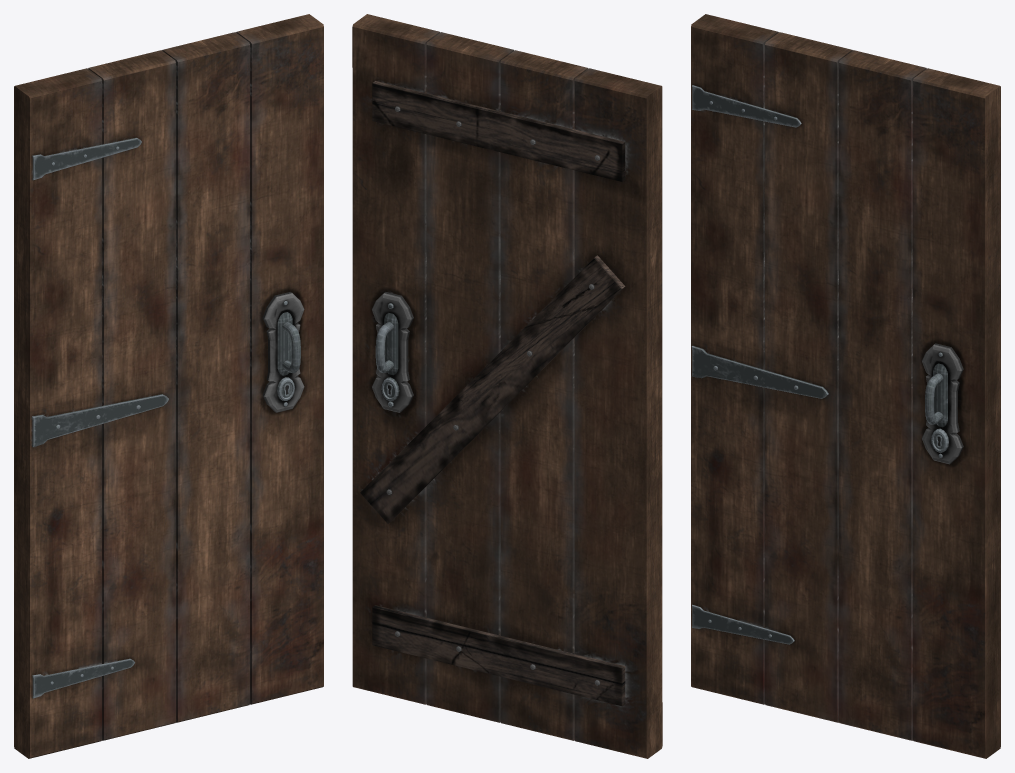
Rendered from medieval_door.glb.
3 views of the same model, side by side, from view 1: azimuth 30°, elevation 25°; view 2: azimuth 150°, elevation 25°; view 3: azimuth 330°, elevation 25° (orthographic).
Visible parts, largest first — view 1: R1_Main_Doors; view 2: R1_Main_Doors; view 3: R1_Main_Doors.
Boxes of the visible parts, x1,y1,x2,y2 form: R1_Main_Doors: (14,14,323,758); R1_Main_Doors: (352,14,662,758); R1_Main_Doors: (691,14,1000,758).
Bounding box in the file's own units: 6.22 × 13.36 × 1.76.
Materials: 1 (1 with a texture image).
